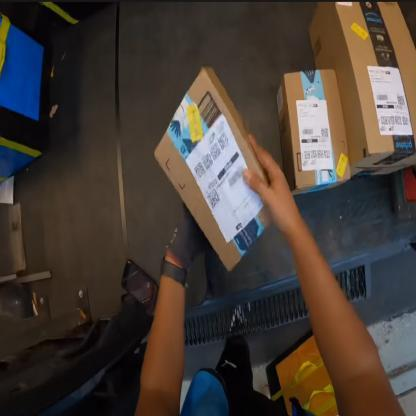package: (152, 62, 283, 276), (310, 0, 416, 179), (275, 66, 352, 205)
